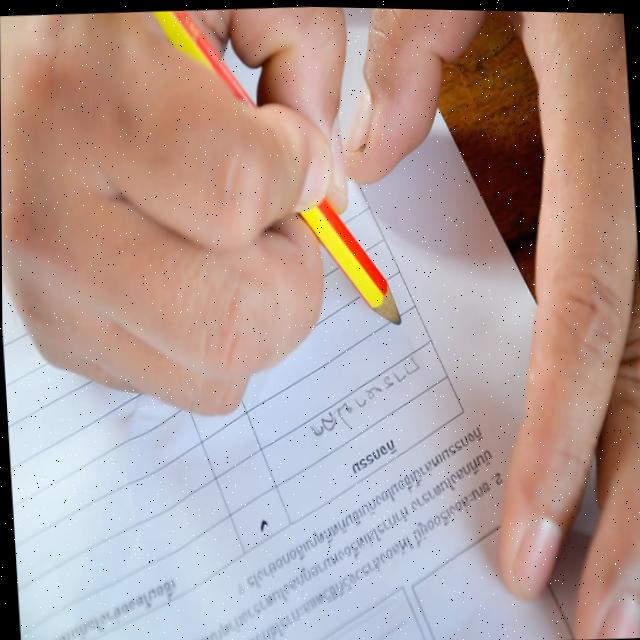pencil: (153, 12, 408, 331)
